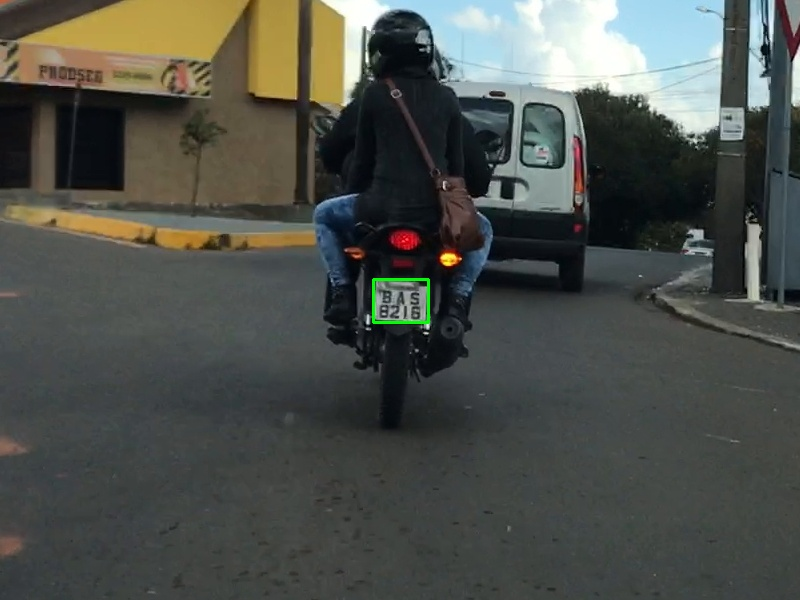placa: (373, 279, 428, 322)
